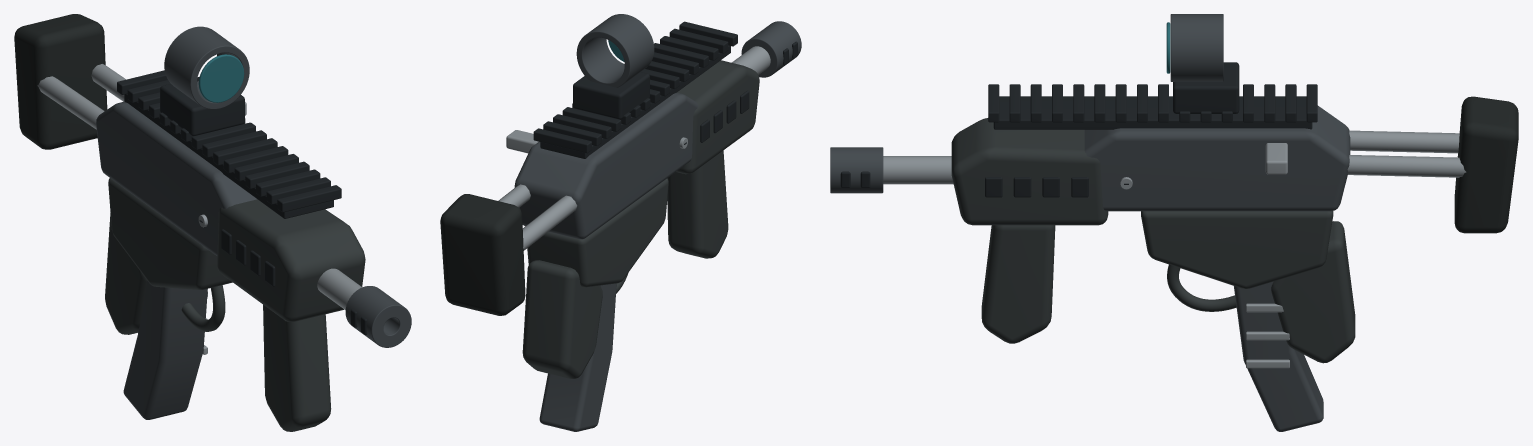
File: smg.glb
3 renders of one model, left to right at view 1: azimuth 30°, elevation 25°; view 2: azimuth 150°, elevation 25°; view 3: azimuth 270°, elevation 25°, orthographic. The views are drawn at different scales.
Visible parts, largest first — view 1: Vented handguard, Upper receiver, Stock shoulder pad, Curved magazine, Vertical foregrip, Lower receiver, Red dot housing, Pistol grip, Muzzle compensator, Red dot base, Red dot lens, Rail spine (+15 smaller); view 2: Upper receiver, Stock shoulder pad, Pistol grip, Lower receiver, Vertical foregrip, Vented handguard, Curved magazine, Red dot housing, Red dot base, Muzzle compensator, Stock rod, Rail spine (+14 smaller); view 3: Upper receiver, Vented handguard, Lower receiver, Vertical foregrip, Stock shoulder pad, Pistol grip, Curved magazine, Rail spine, Red dot housing, Red dot base, Stock rod.001, Stock rod (+4 smaller).
Boxes of the visible parts, x1=… form: Vented handguard: x1=217, y1=199, x2=365, y2=322; Upper receiver: x1=96, y1=101, x2=256, y2=255; Stock shoulder pad: x1=14, y1=14, x2=107, y2=149; Curved magazine: x1=123, y1=281, x2=207, y2=419; Vertical foregrip: x1=263, y1=305, x2=331, y2=431; Lower receiver: x1=108, y1=178, x2=232, y2=290; Red dot housing: x1=164, y1=26, x2=249, y2=109; Pistol grip: x1=105, y1=213, x2=147, y2=334; Muzzle compensator: x1=345, y1=286, x2=411, y2=347; Red dot base: x1=160, y1=77, x2=244, y2=136; Red dot lens: x1=198, y1=54, x2=244, y2=102; Rail spine: x1=124, y1=94, x2=333, y2=218; Upper receiver: x1=514, y1=92, x2=698, y2=239; Stock shoulder pad: x1=440, y1=194, x2=525, y2=315; Pistol grip: x1=522, y1=260, x2=602, y2=379; Lower receiver: x1=527, y1=178, x2=668, y2=287; Vertical foregrip: x1=667, y1=150, x2=728, y2=258; Vented handguard: x1=676, y1=60, x2=759, y2=174; Curved magazine: x1=539, y1=283, x2=616, y2=431; Red dot housing: x1=576, y1=14, x2=654, y2=87; Red dot base: x1=573, y1=72, x2=649, y2=119; Muzzle compensator: x1=741, y1=21, x2=801, y2=77; Stock rod: x1=522, y1=195, x2=577, y2=250; Rail spine: x1=540, y1=45, x2=730, y2=158; Upper receiver: x1=1084, y1=105, x2=1350, y2=211; Vented handguard: x1=951, y1=118, x2=1108, y2=225; Lower receiver: x1=1141, y1=211, x2=1333, y2=288; Vertical foregrip: x1=981, y1=225, x2=1055, y2=343; Stock shoulder pad: x1=1454, y1=96, x2=1518, y2=233; Pistol grip: x1=1271, y1=221, x2=1355, y2=363; Curved magazine: x1=1234, y1=281, x2=1323, y2=431; Rail spine: x1=993, y1=96, x2=1312, y2=129; Red dot housing: x1=1170, y1=14, x2=1223, y2=81; Red dot base: x1=1173, y1=62, x2=1239, y2=113; Stock rod.001: x1=1347, y1=155, x2=1466, y2=177; Stock rod: x1=1349, y1=130, x2=1459, y2=153.
Size of the model in its own units: 0.3035 by 1.01 by 1.56.
